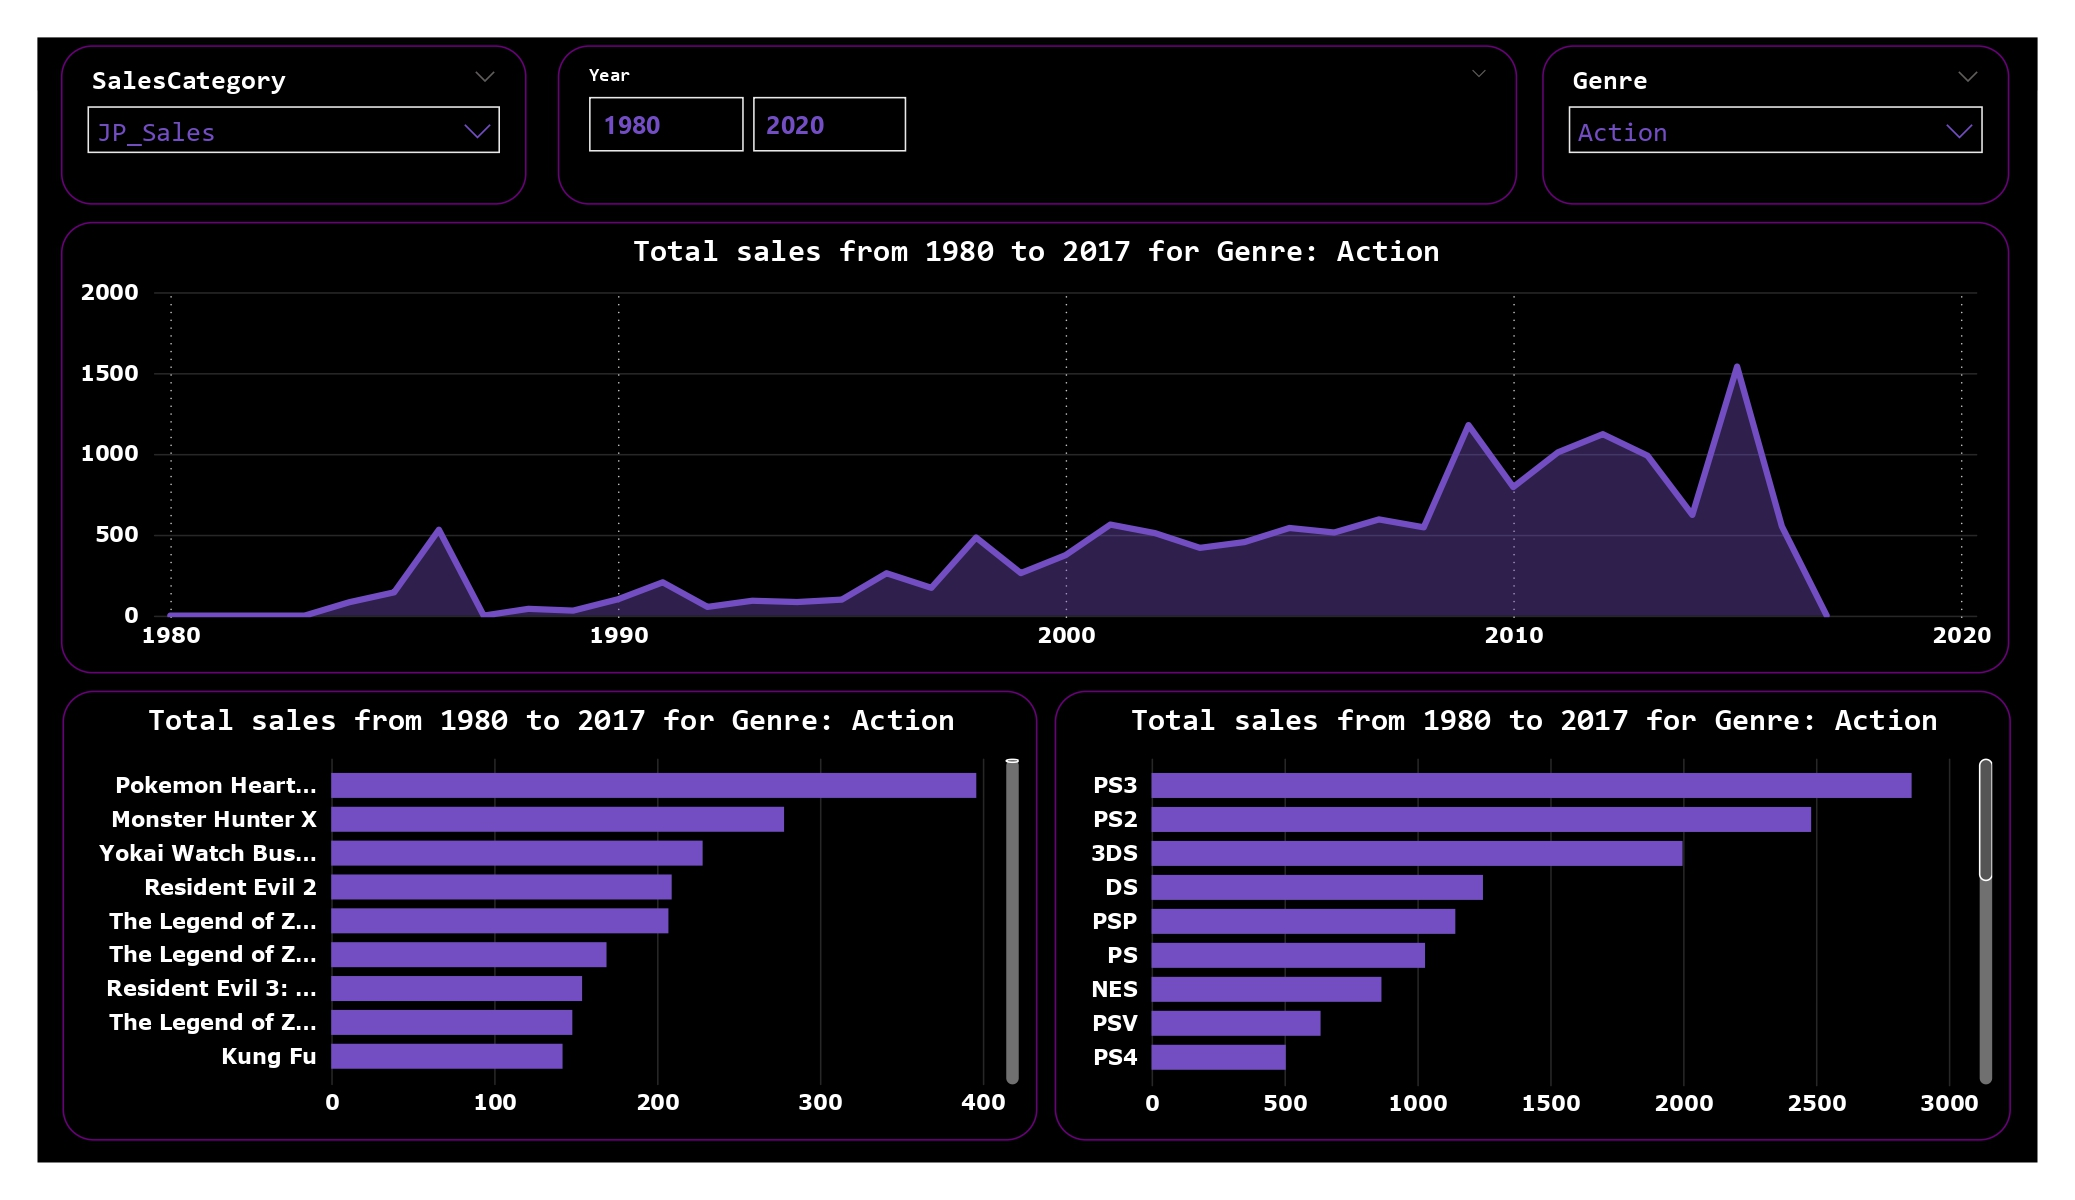

What the dashboard file says about the page in this screenshot:
{"tool":"powerbi","page":{"name":"Página 1","canvas":[1280,720],"ordinal":0},"visuals":[{"type":"areaChart","fields":{"Y":["vgsales.Sum_jp_sales"],"Category":["vgsales.Year"]},"box":[15,118.3,1246.7,288.3],"z":0},{"type":"slicer","fields":{"Values":["vgsales.Year"]},"box":[333.3,5,613.3,101.7],"z":1000},{"type":"slicer","fields":{"Values":["vgsales.Genre"]},"box":[963.3,5,298.3,101.7],"z":2000},{"type":"slicer","fields":{"Values":["SalesCategory.SalesCategory"]},"box":[15,5,298.3,101.7],"z":3000},{"type":"clusteredBarChart","fields":{"Y":["vgsales.Sum_jp_sales"],"Category":["vgsales.Name"]},"box":[16,418,624,288],"z":4000},{"type":"clusteredBarChart","fields":{"Y":["vgsales.Sum_jp_sales"],"Category":["vgsales.Platform"]},"box":[651.2,417.5,611.2,288.8],"z":4001}]}

Visuals, with their boxes in screenshot pixels (x1, y1, x2, y2):
areaChart - vgsales.Sum_jp_sales x vgsales.Year: 61:222:2009:673
slicer - vgsales.Year: 558:45:1517:204
slicer - vgsales.Genre: 1543:45:2009:204
slicer - SalesCategory.SalesCategory: 61:45:527:204
clusteredBarChart - vgsales.Sum_jp_sales x vgsales.Name: 62:691:1038:1141
clusteredBarChart - vgsales.Sum_jp_sales x vgsales.Platform: 1055:690:2010:1141
